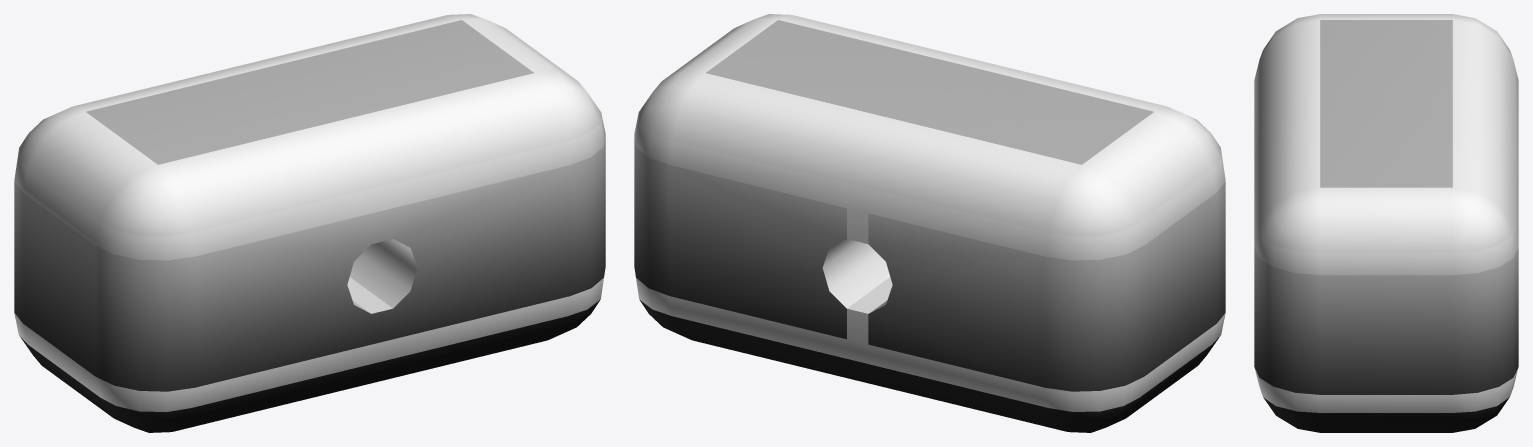
Rendered from MovingPL_1x2_V2.fbx.
The picture shows the model from 3 angles, left to right: view 1: azimuth 30°, elevation 25°; view 2: azimuth 150°, elevation 25°; view 3: azimuth 270°, elevation 25°; orthographic projection. The views are drawn at different scales.
Visible parts, largest first — view 1: MovingPL_1x2_V2; view 2: MovingPL_1x2_V2; view 3: MovingPL_1x2_V2.
Part boxes in pixels (<box>): MovingPL_1x2_V2: <box>14,14,605,432</box>; MovingPL_1x2_V2: <box>634,14,1225,432</box>; MovingPL_1x2_V2: <box>1254,14,1518,432</box>.
Bounding box in the file's own units: 256 × 128 × 128.
Materials: 2 (1 with a texture image).
